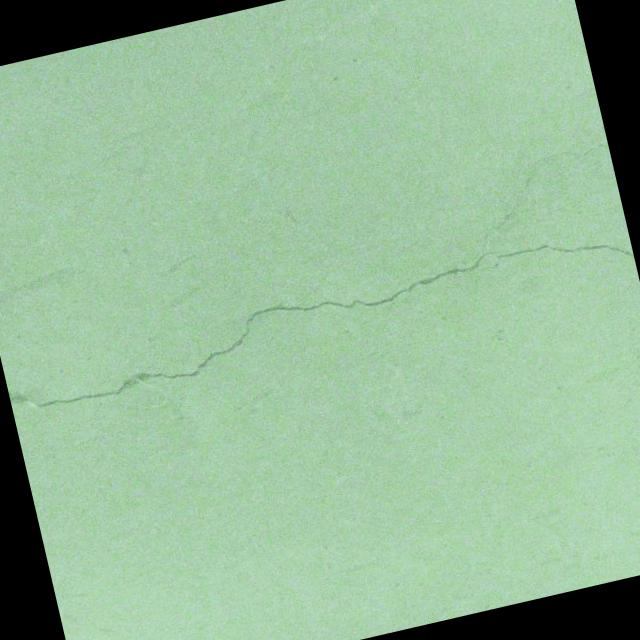crack: (0, 140, 638, 419)
